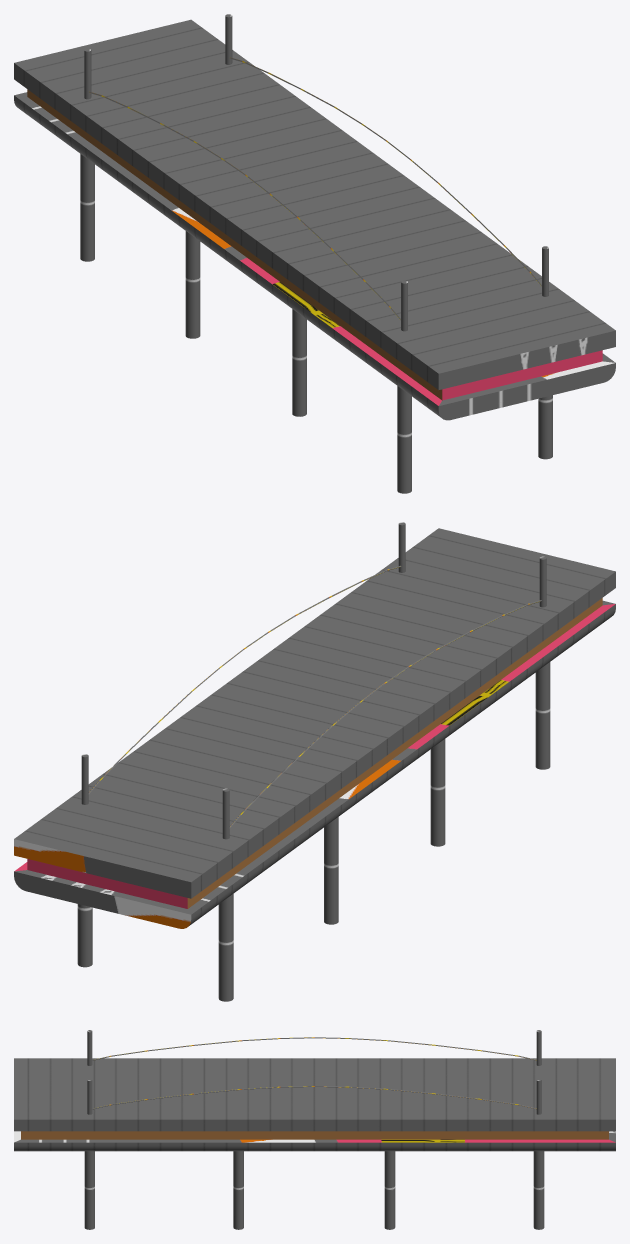
File: Toll_dongwan.obj
3 views of the same model, one above another, from view 1: azimuth 30°, elevation 25°; view 2: azimuth 150°, elevation 25°; view 3: azimuth 270°, elevation 25° (orthographic). The views are drawn at different scales.
Visible parts, largest first — view 1: Cube.017_Cube.028; view 2: Cube.017_Cube.028; view 3: Cube.017_Cube.028.
Boxes of the visible parts, <box> form: Cube.017_Cube.028: <box>14,14,615,493</box>; Cube.017_Cube.028: <box>14,522,615,1001</box>; Cube.017_Cube.028: <box>14,1030,615,1229</box>.
Size of the model in its own units: 10.41 by 11.7 by 43.2.
